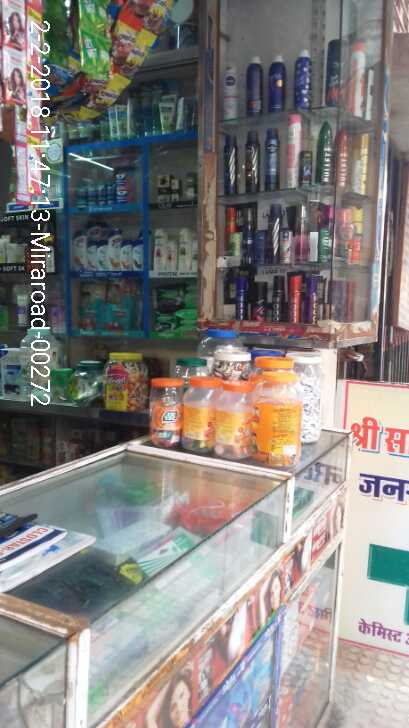beauty: (176, 223, 200, 278), (69, 224, 86, 269), (151, 224, 165, 276), (105, 225, 119, 276), (161, 239, 177, 273), (154, 173, 171, 205), (121, 241, 134, 266), (87, 242, 98, 271), (134, 243, 143, 268)
pharmacy: (69, 283, 102, 334), (104, 277, 134, 333), (147, 282, 186, 308), (73, 183, 111, 204), (109, 167, 131, 202), (147, 312, 174, 333)
